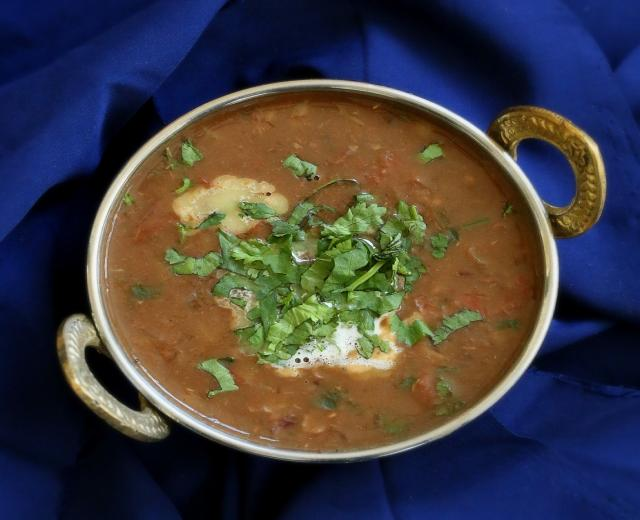dal makhni: (90, 82, 554, 460)
